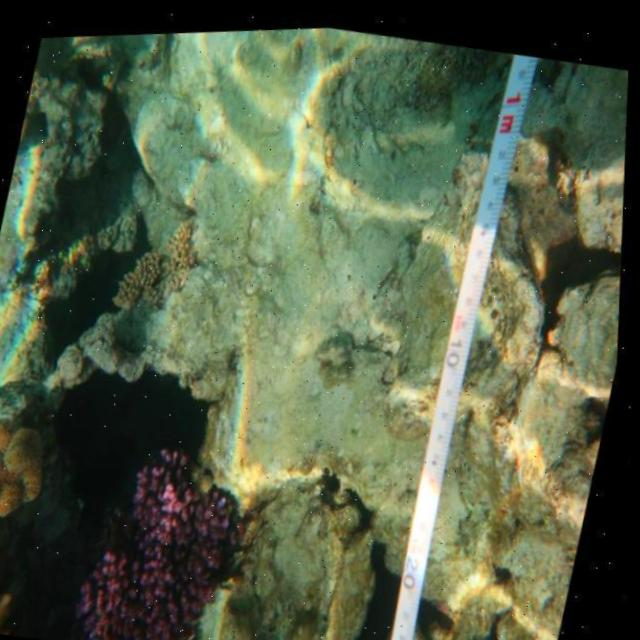Healthy Coral: (65, 420, 276, 640), (0, 395, 61, 515)
